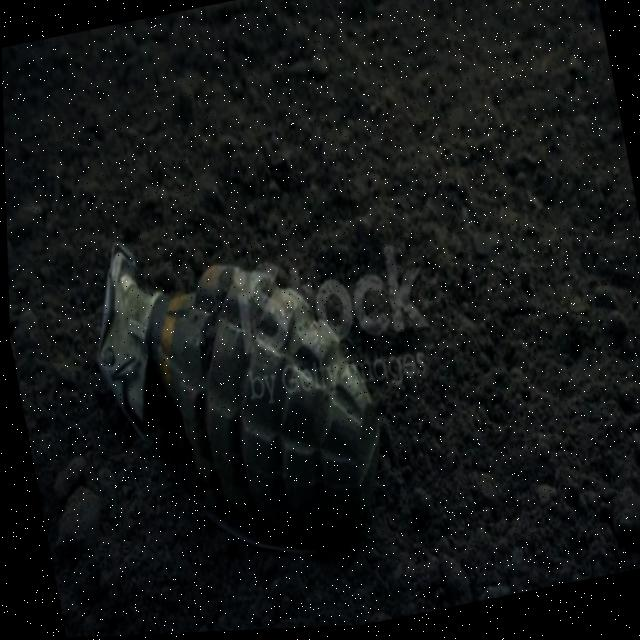grenade: (65, 190, 414, 594)
